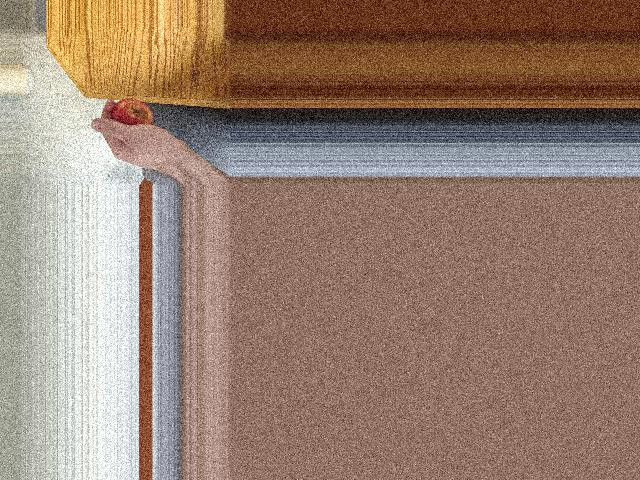apple: (109, 95, 155, 140)
